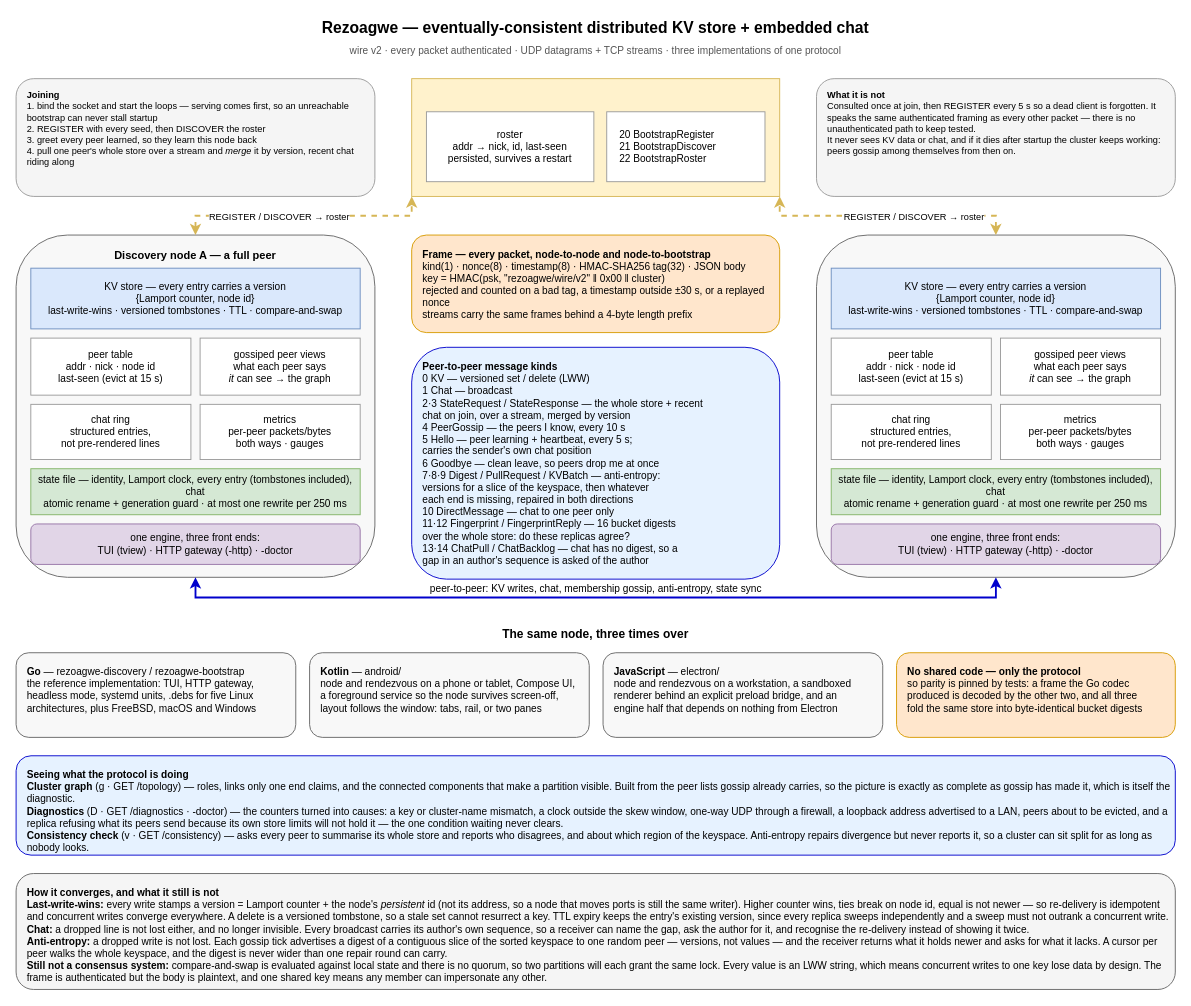
Some shapes in this 1191 by 1006 pixel diagram are drawn without their labels. The box of each missing label's shape, as (x1, y1, x2, y2) in pixels:
Bootstrap — rendezvous service: (411, 78, 780, 196)
Discovery node B — a full peer: (816, 234, 1175, 577)
